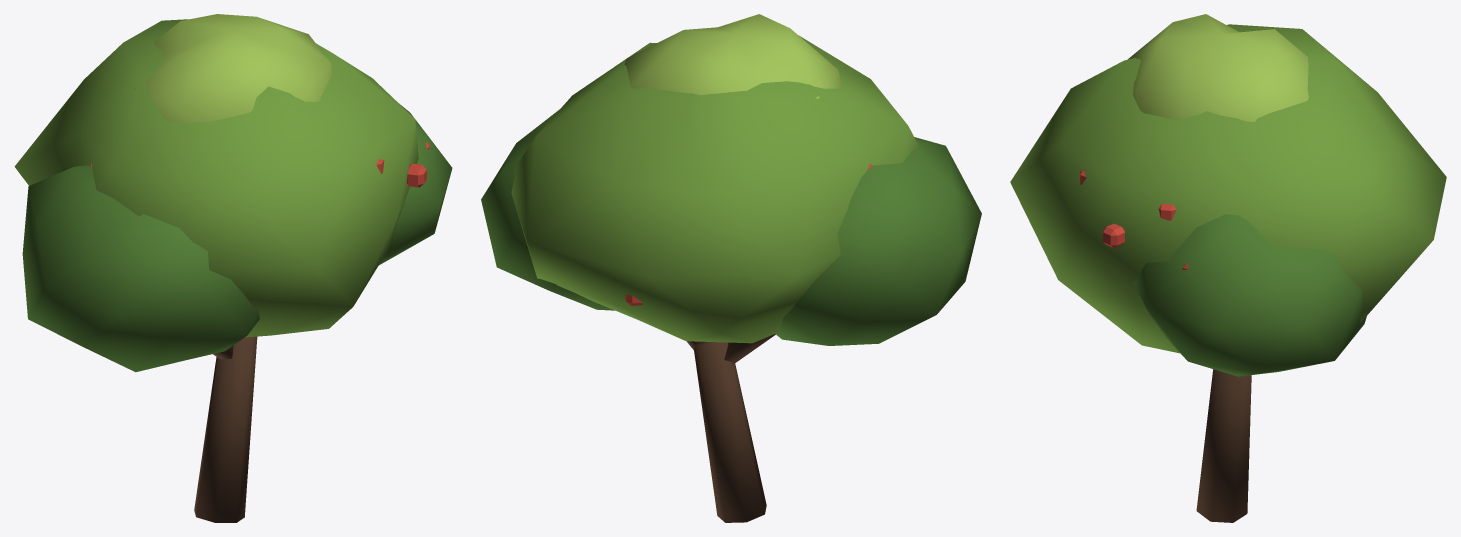
Rendered from tree_apple.glb.
The picture shows the model from 3 angles, left to right: view 1: azimuth 30°, elevation 25°; view 2: azimuth 150°, elevation 25°; view 3: azimuth 270°, elevation 25°; orthographic projection.
Parts seen in each view (by area): view 1: LOD0; view 2: LOD0; view 3: LOD0.
Part boxes in pixels (bbox=[...]): LOD0: bbox=[14, 14, 452, 522]; LOD0: bbox=[481, 14, 981, 522]; LOD0: bbox=[1010, 14, 1446, 522].
Size of what is drawn, in the model's own units: 4.13 by 4.49 by 3.67.
1 material, 1 textured.
